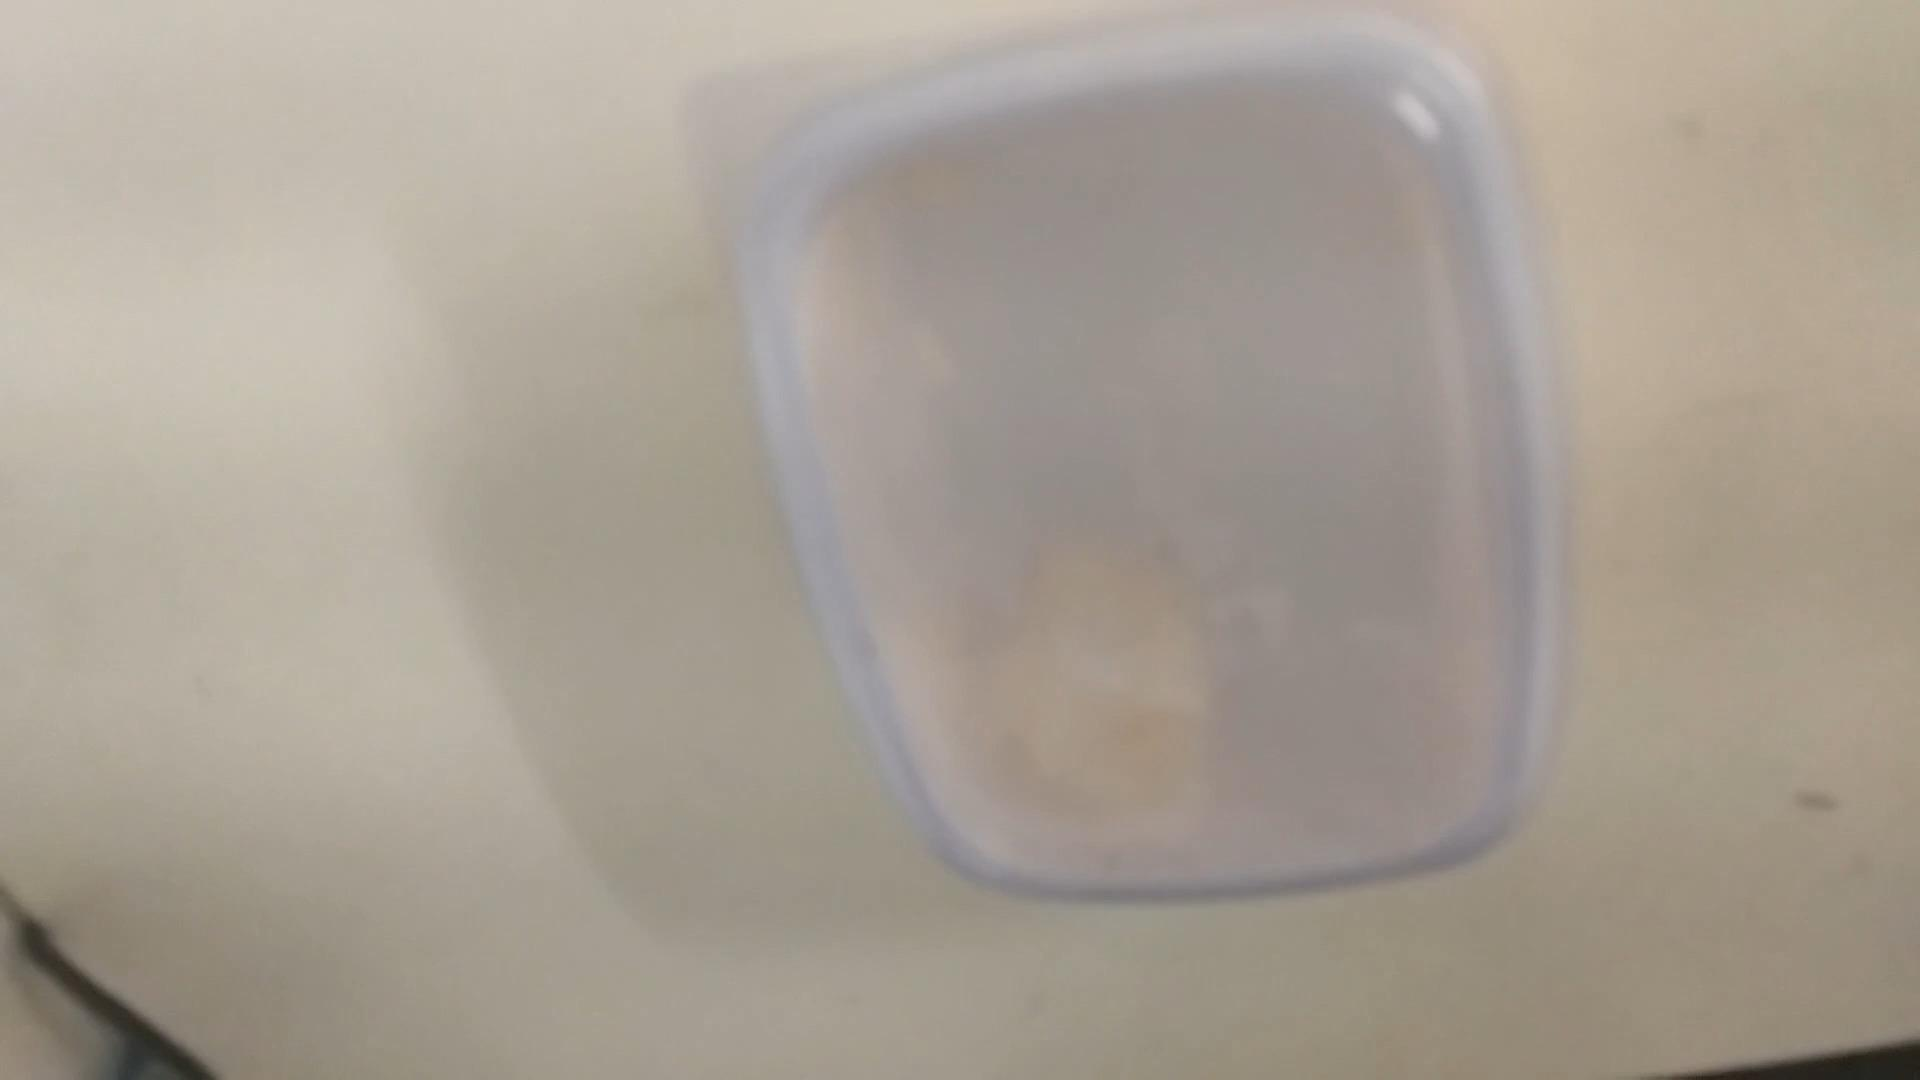butter: (733, 7, 1551, 906)
